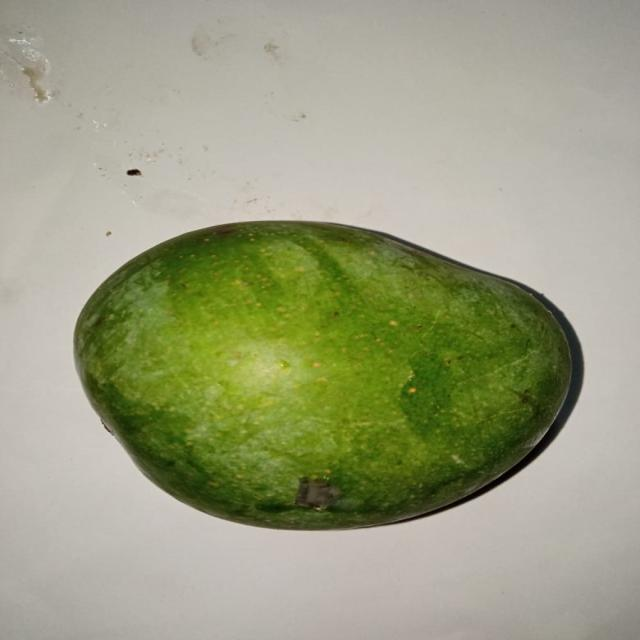fresh_mango: (71, 219, 572, 532)
